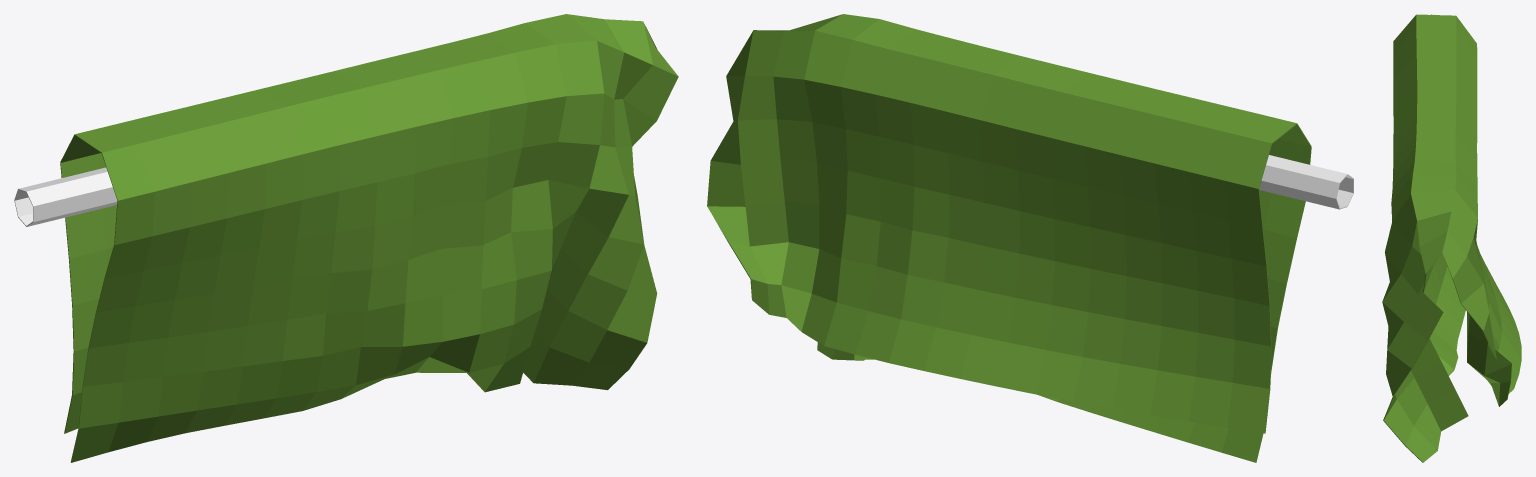
The model's file is Towel.fbx.
3 views of the same model, side by side, from view 1: azimuth 30°, elevation 25°; view 2: azimuth 150°, elevation 25°; view 3: azimuth 270°, elevation 25° (orthographic). The views are drawn at different scales.
Visible parts, largest first — view 1: towel; view 2: towel; view 3: towel.
Boxes of the visible parts, x1=… form: towel: x1=14, y1=14, x2=678, y2=462; towel: x1=707, y1=14, x2=1353, y2=462; towel: x1=1382, y1=14, x2=1521, y2=462.
Size of the model in its own units: 0.6983 by 0.3735 by 0.1769.
